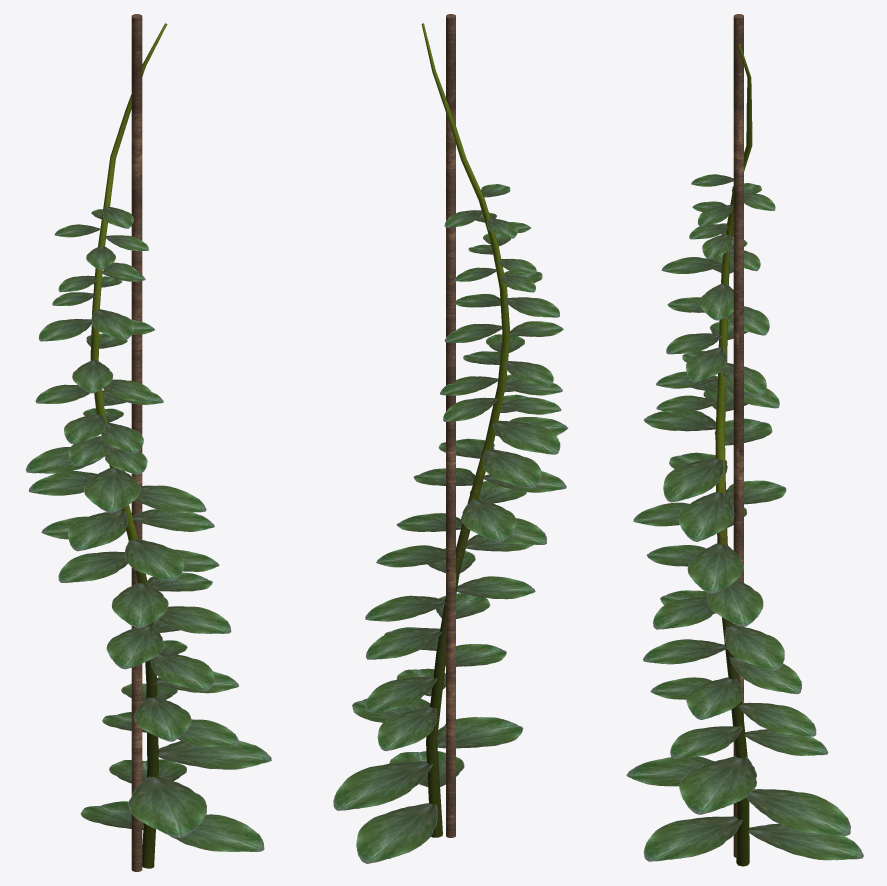
File: fave_up.FBX
The picture shows the model from 3 angles, left to right: view 1: azimuth 30°, elevation 25°; view 2: azimuth 150°, elevation 25°; view 3: azimuth 270°, elevation 25°; orthographic projection. The views are drawn at different scales.
Visible parts, largest first — view 1: fave_up; view 2: fave_up; view 3: fave_up.
Part boxes in pixels (box(x1,y1,x2,y2)): fave_up: box(25, 14, 271, 871); fave_up: box(333, 14, 568, 863); fave_up: box(626, 14, 863, 866).
Size of the model in its own units: 21.42 by 70.15 by 19.78.
